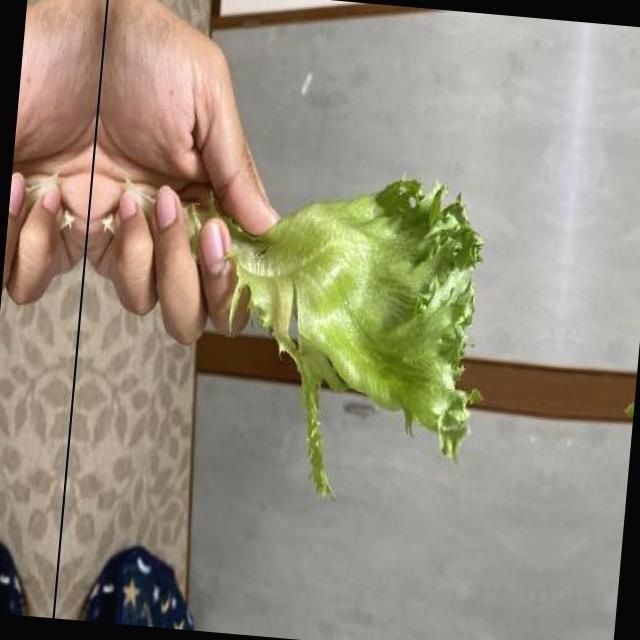healthy: (220, 156, 493, 456)
